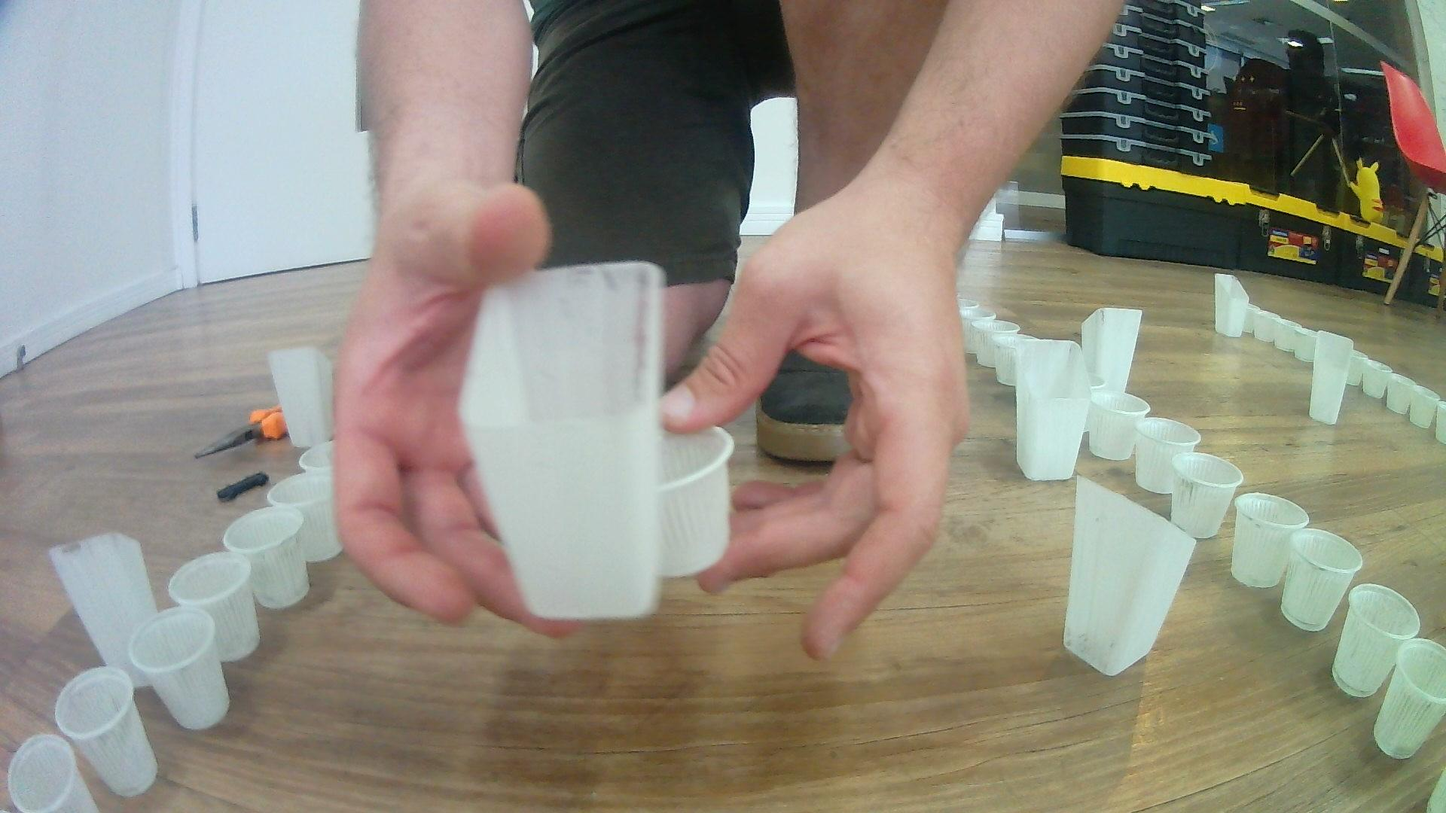erva_daninha: (463, 261, 667, 622), (1062, 470, 1197, 676), (47, 531, 163, 687), (1014, 340, 1089, 481), (267, 346, 336, 449), (1081, 306, 1142, 396), (1308, 330, 1355, 425), (1215, 273, 1250, 337)
planta: (55, 665, 160, 798), (649, 425, 737, 579), (128, 607, 230, 730), (1330, 583, 1421, 698), (169, 552, 261, 662), (222, 506, 312, 610), (1373, 638, 1446, 760), (1279, 529, 1363, 632), (6, 733, 101, 813), (1231, 493, 1310, 589), (266, 472, 343, 563), (1169, 452, 1244, 540), (1133, 417, 1201, 494), (1085, 391, 1152, 461), (993, 333, 1035, 387), (974, 320, 1020, 369), (961, 308, 997, 354), (1408, 385, 1441, 429), (298, 441, 338, 476), (1383, 372, 1414, 415), (1362, 360, 1393, 399), (1292, 326, 1320, 362), (1273, 318, 1301, 353), (1253, 311, 1284, 342), (1348, 350, 1374, 386), (1243, 304, 1268, 336), (1435, 399, 1446, 443), (955, 296, 981, 312)
